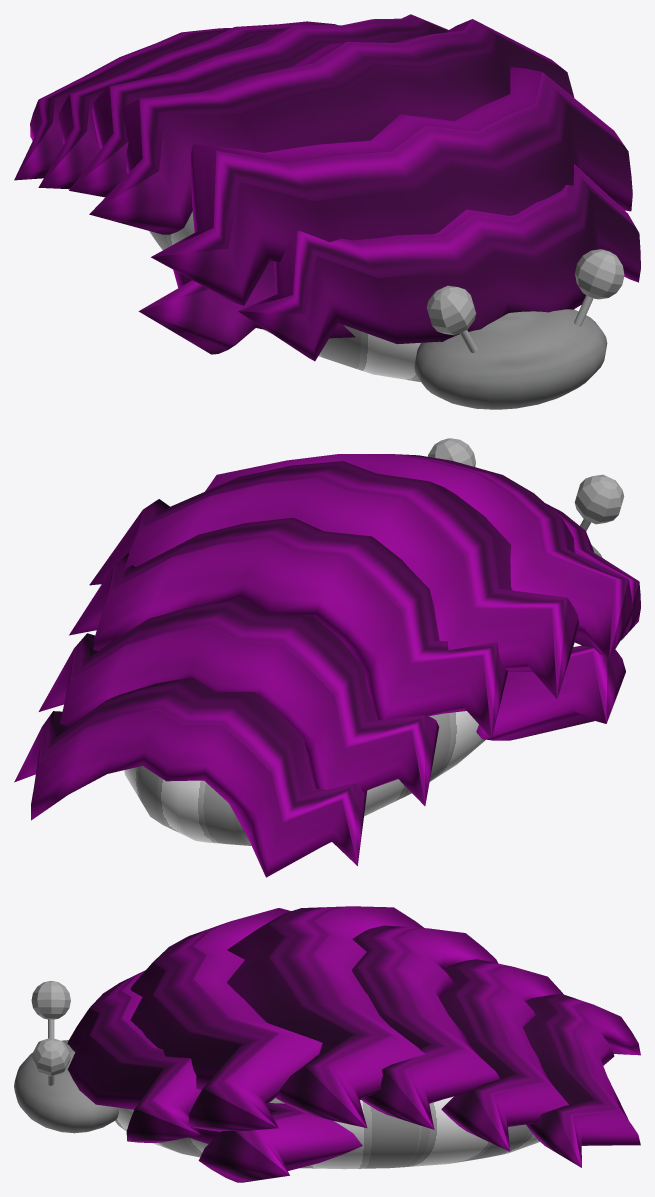
The model's file is enemy2.obj.
3 renders of one model, top to bottom at view 1: azimuth 30°, elevation 25°; view 2: azimuth 150°, elevation 25°; view 3: azimuth 270°, elevation 25°, orthographic. The views are drawn at different scales.
Visible parts, largest first — view 1: pCube6, pCube1, pCube7, pSphere2, pCube3, pCube4, pCube2, pCube5, pSphere3 group3 group2 group1, pSphere1; view 2: pCube3, pCube1, pCube4, pCube5, pCube6, pSphere1, pCube2, pSphere3 group3 group2 group1, pCube7; view 3: pCube1, pCube6, pCube3, pCube4, pCube5, pCube7, pSphere1, pCube2, pSphere2, pSphere3 group3 group2 group1.
Boxes of the visible parts, x1,y1,x2,y2 form: pCube6: [151, 67, 632, 305]; pCube1: [89, 19, 574, 234]; pCube7: [238, 164, 640, 361]; pSphere2: [414, 309, 607, 409]; pCube3: [69, 14, 448, 197]; pCube4: [38, 21, 337, 189]; pCube2: [138, 260, 355, 354]; pCube5: [14, 28, 231, 180]; pSphere3 group3 group2 group1: [426, 249, 624, 335]; pSphere1: [149, 211, 420, 381]; pCube3: [69, 518, 508, 738]; pCube1: [89, 461, 579, 699]; pCube4: [38, 599, 439, 806]; pCube5: [14, 677, 366, 877]; pCube6: [205, 454, 632, 658]; pSphere1: [124, 711, 485, 845]; pCube2: [476, 645, 625, 740]; pSphere3 group3 group2 group1: [428, 438, 624, 524]; pCube7: [545, 503, 640, 640]; pCube1: [227, 906, 425, 1128]; pCube6: [130, 908, 322, 1131]; pCube3: [352, 925, 500, 1129]; pCube4: [440, 959, 568, 1151]; pCube5: [523, 994, 640, 1167]; pCube7: [67, 970, 201, 1142]; pSphere1: [115, 1096, 539, 1169]; pCube2: [189, 1103, 362, 1182]; pSphere2: [14, 1040, 118, 1133]; pSphere3 group3 group2 group1: [31, 981, 70, 1076].
Bounding box in the file's own units: 2.83 × 1.58 × 4.2.
Materials: 3 (3 with a texture image).
